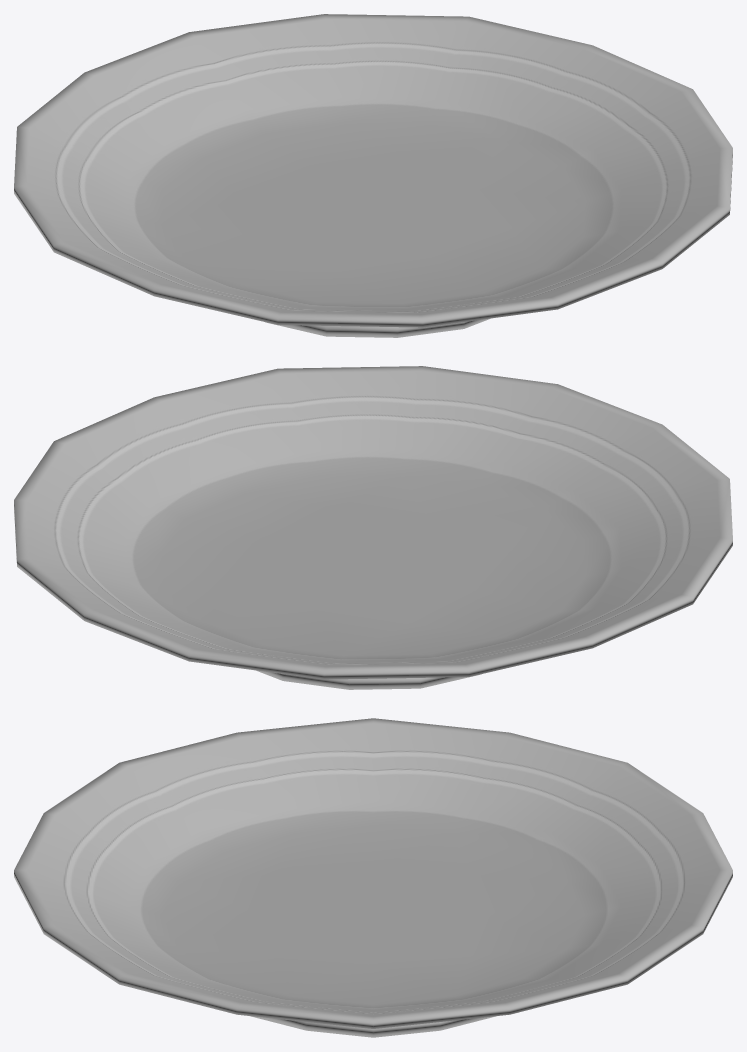
Rendered from Pantheon_Plate.fbx.
3 views of the same model, one above another, from view 1: azimuth 30°, elevation 25°; view 2: azimuth 150°, elevation 25°; view 3: azimuth 270°, elevation 25° (orthographic). The views are drawn at different scales.
Visible parts, largest first — view 1: pCylinder13; view 2: pCylinder13; view 3: pCylinder13.
Part boxes in pixels (x1,y1,x2,y2): pCylinder13: [14, 14, 732, 337]; pCylinder13: [14, 366, 732, 689]; pCylinder13: [14, 718, 732, 1037].
Size of the model in its own units: 47.97 by 6.85 by 47.97.
Materials: 1 (1 with a texture image).
